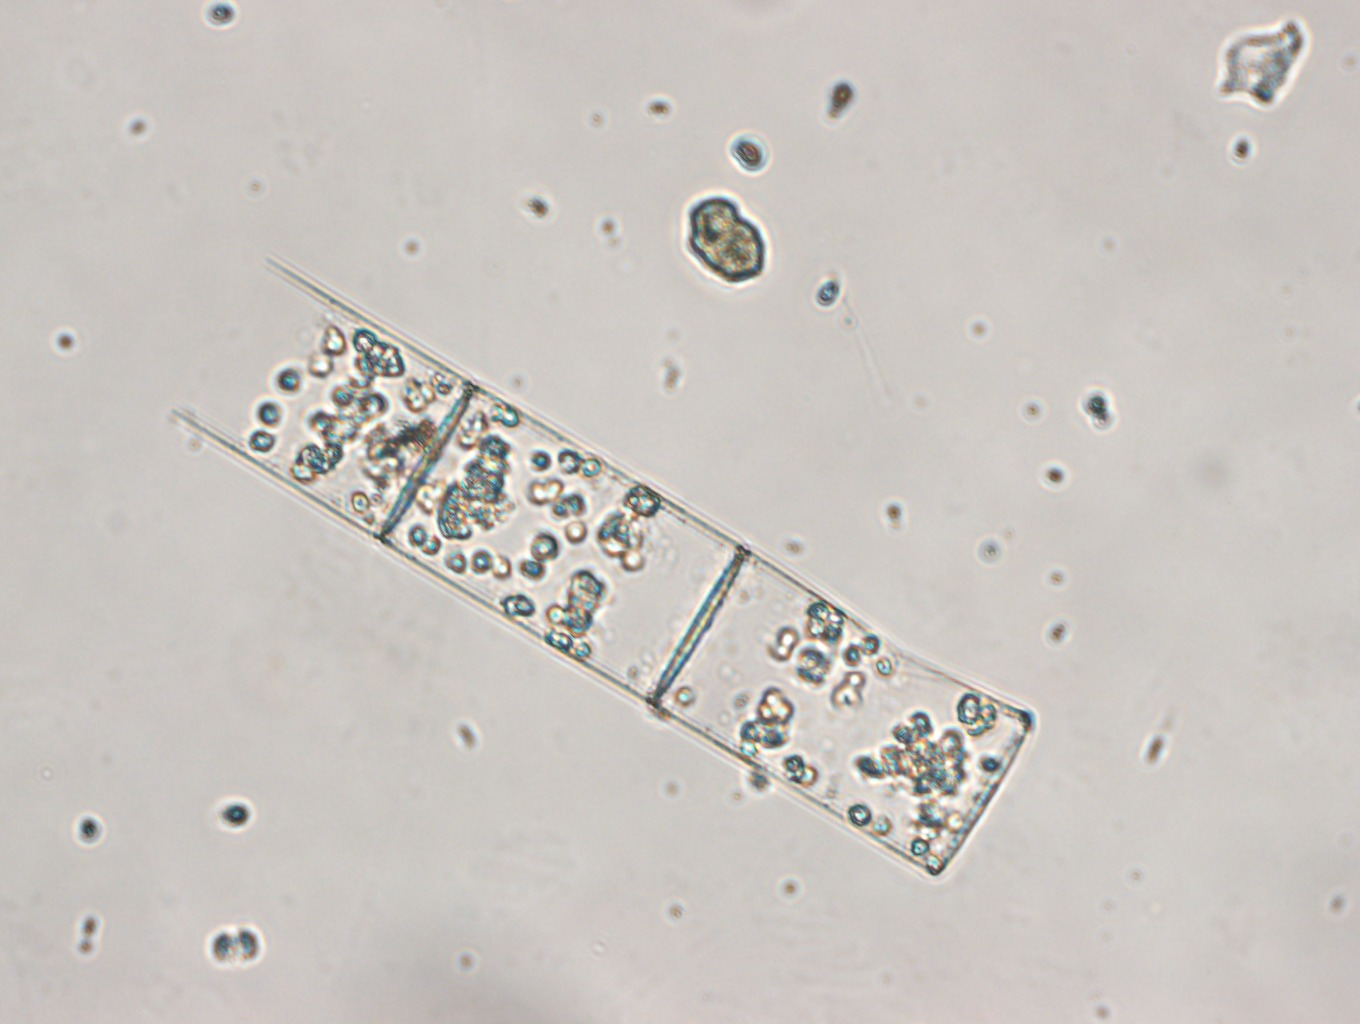guinardia flaccida: (153, 236, 1063, 882)
